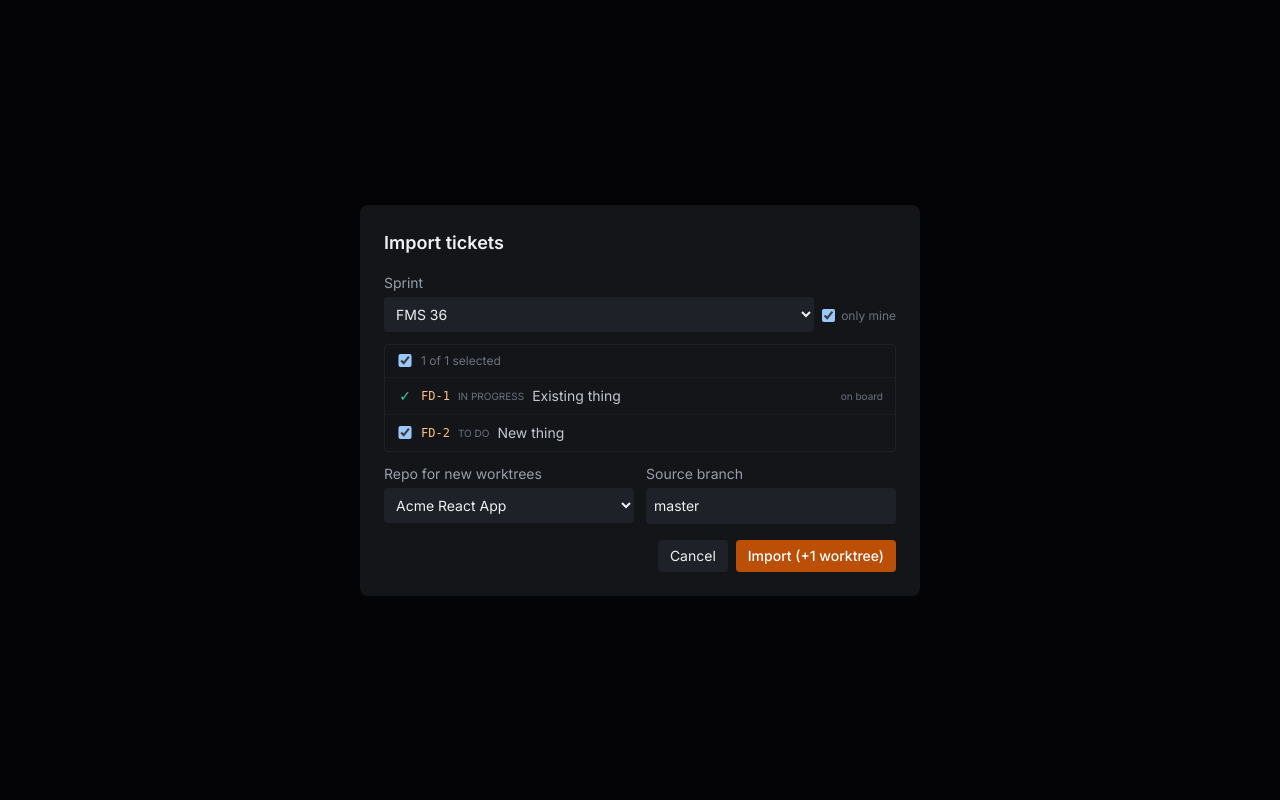
ImportTicketsDialog › disables Import when every new ticket is unticked
Expected: the text "New thing" is shown, [497, 422, 564, 442]
Click the checkbox named "Create worktree for FD-2". click: (405, 432)
box: [397, 426, 413, 439]
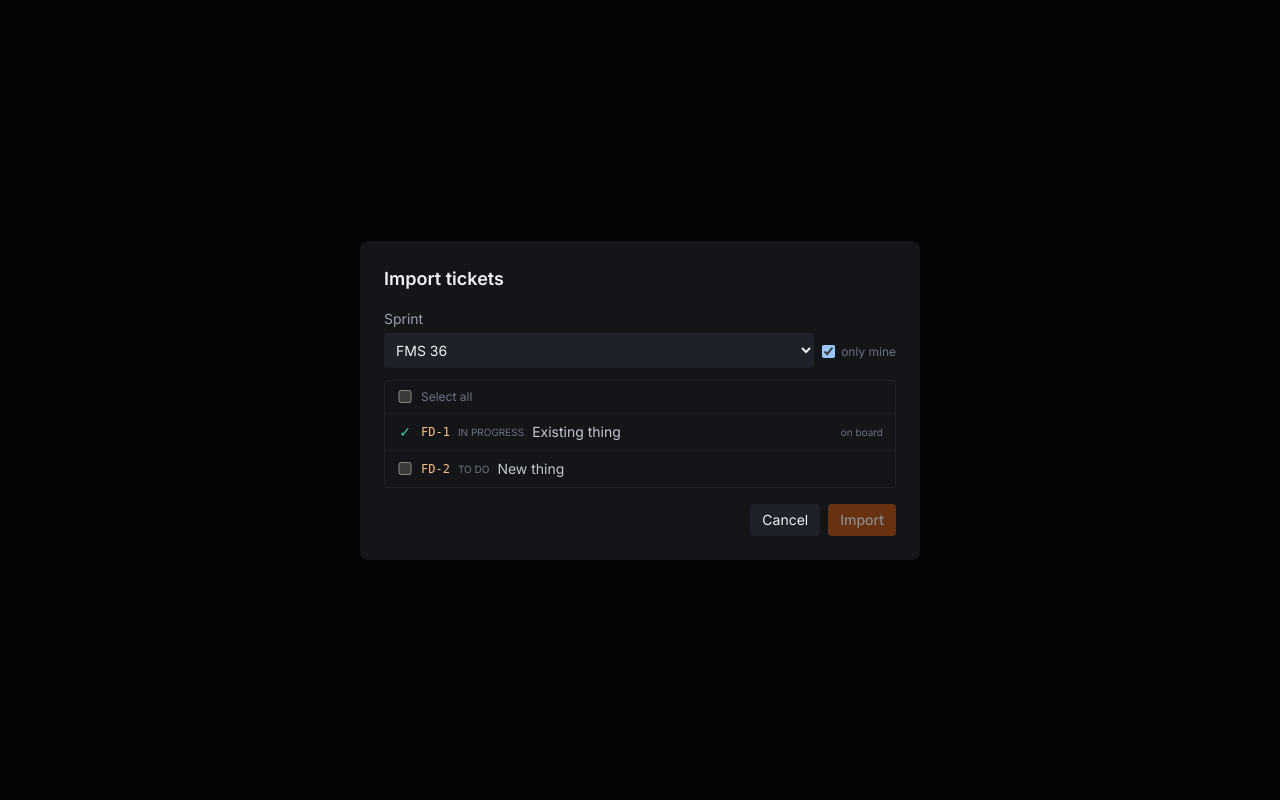
Expected: the button "Import" is disabled, [828, 504, 896, 536]
